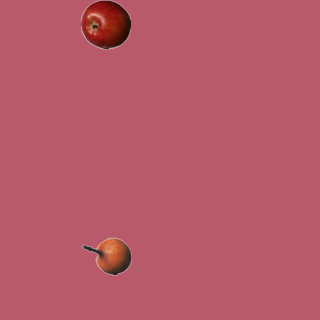Apple Braeburn: (80, 0, 130, 49)
Granadilla: (81, 231, 131, 281)
